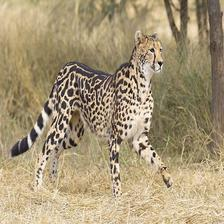Cheetah: (9, 33, 175, 197)
